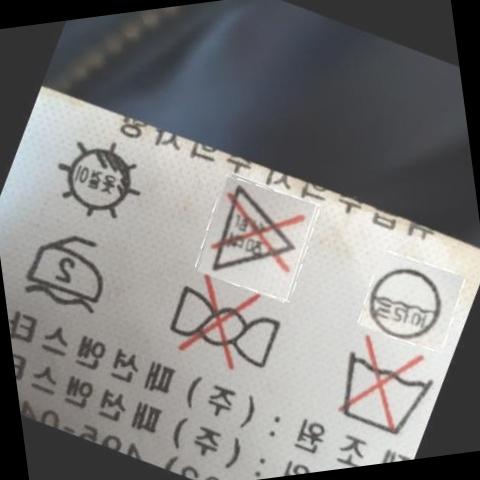DN_wash: (333, 330, 430, 441)
DN_wring: (161, 268, 287, 388)
dry_clean: (355, 249, 452, 348)
iron_medium: (17, 230, 113, 318)
line_dry_in_shade: (52, 132, 144, 229)
non_chlorine_bleach: (206, 179, 301, 286)
